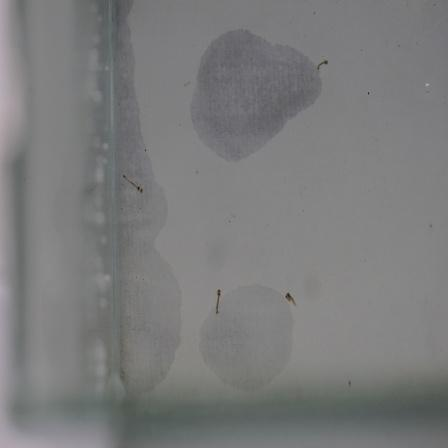Jentik-Nyamuk: (121, 166, 148, 199), (211, 286, 225, 317), (283, 287, 301, 311)
